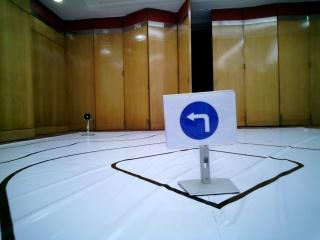left: (173, 99, 232, 144)
